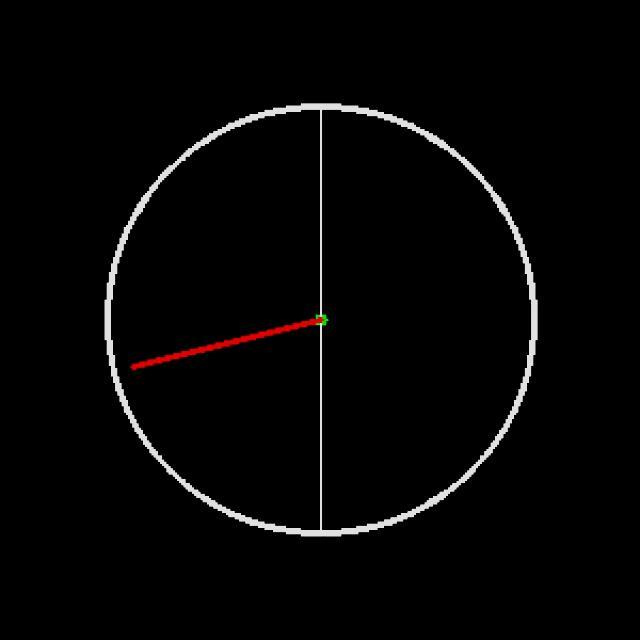Needle_Tip: (113, 343, 160, 385)
Needle_base: (298, 283, 360, 356)
